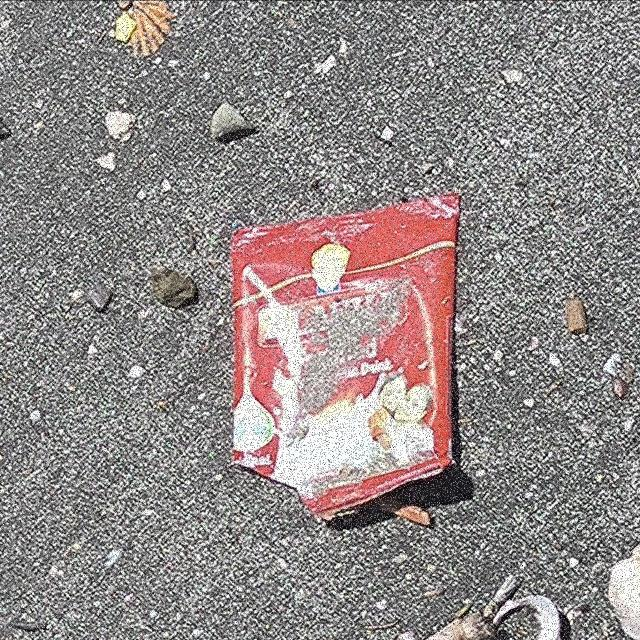plastic_waste: (231, 190, 463, 522)
